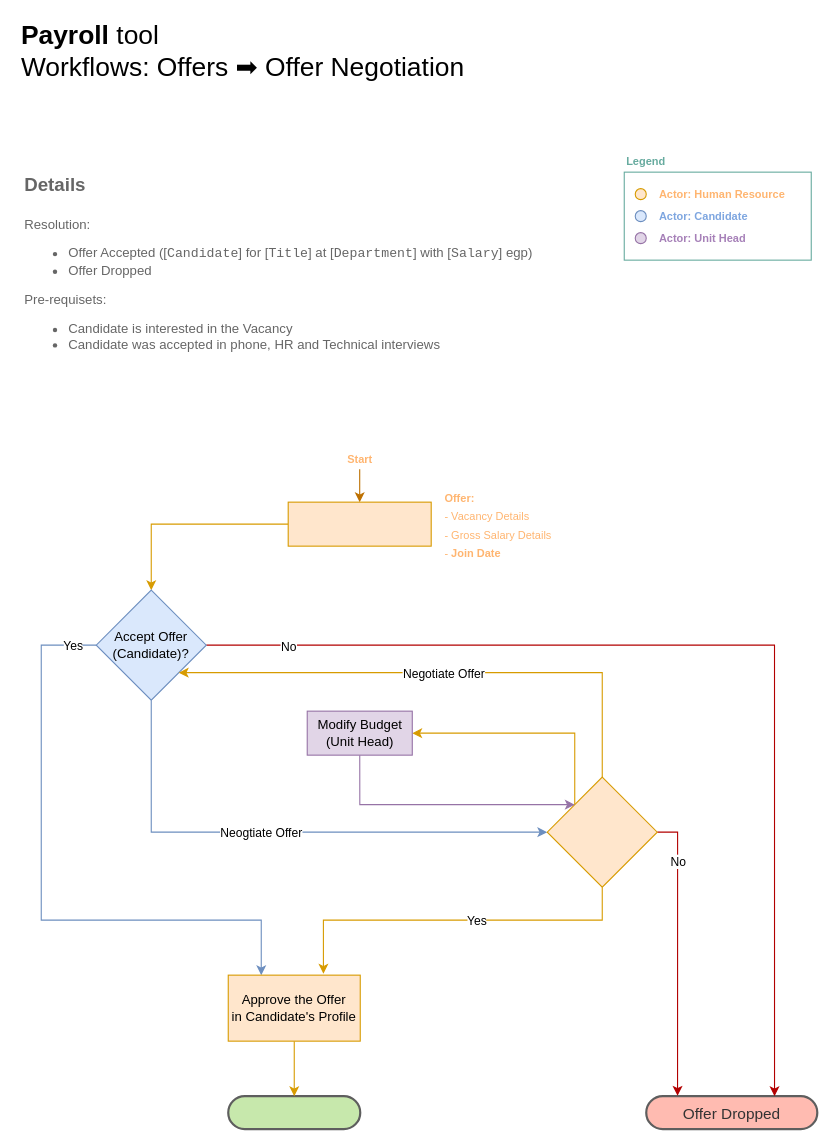
Some shapes in this 837 by 1148 pixel diagram are drawn without their labels. The centre of each missing label's shape, as x and y in pixels:
"Confrim Offer (HR)?" belongs at [601,831].
"Create an Offer for Candidate" belongs at [359,523].
"Offer Approved" belongs at [294,1112].
